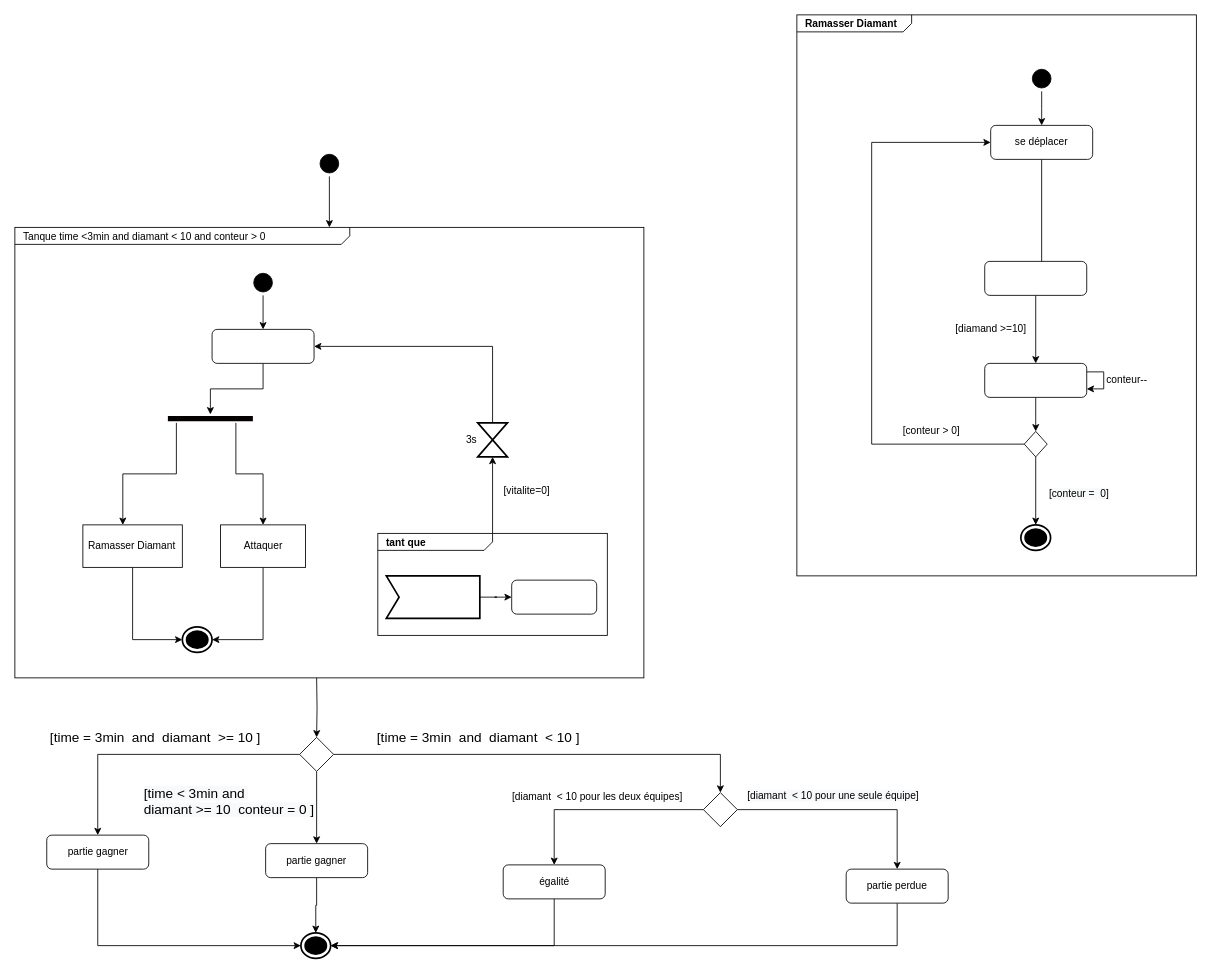
The diagram is 1211 pixels wide and 974 high, and some of its shapes have lost their labels. The centre of each missing label's shape, as x and y in pixels:
baisse de vitalité: [554,596]
commencer le jeu: [262,346]
lancer conteur: [1035,380]
ramasse diamand: [1035,278]
reçois attaque: [432,597]
